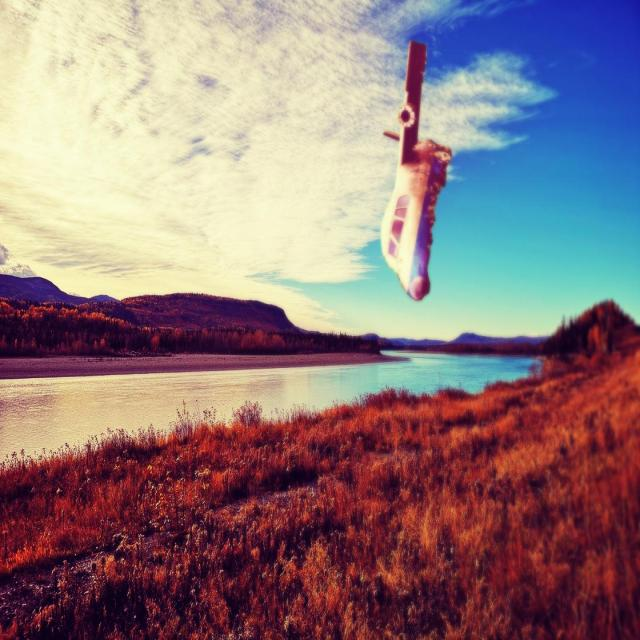airplane: (380, 39, 452, 301)
